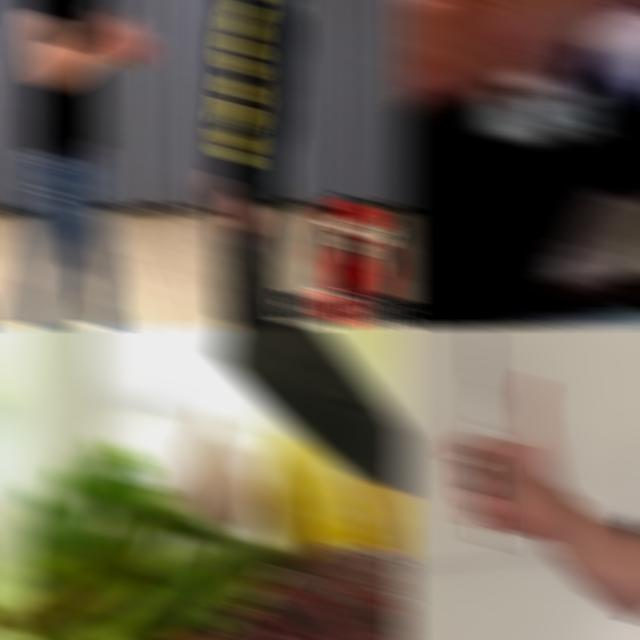Knife: (142, 324, 410, 498)
Knife_Handle: (396, 0, 640, 328), (446, 324, 559, 539), (90, 0, 140, 60)
